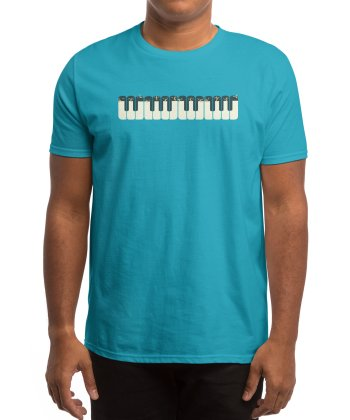design: (116, 92, 241, 124)
